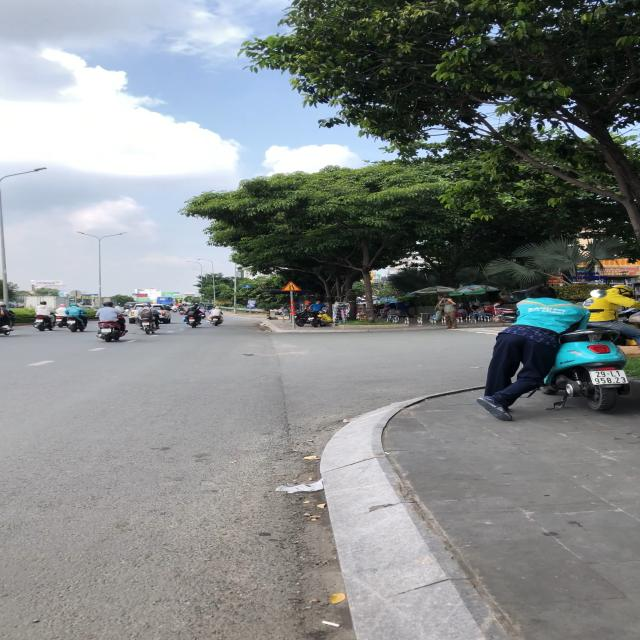Bien bao duong bi thu hep: (281, 281, 303, 292)
